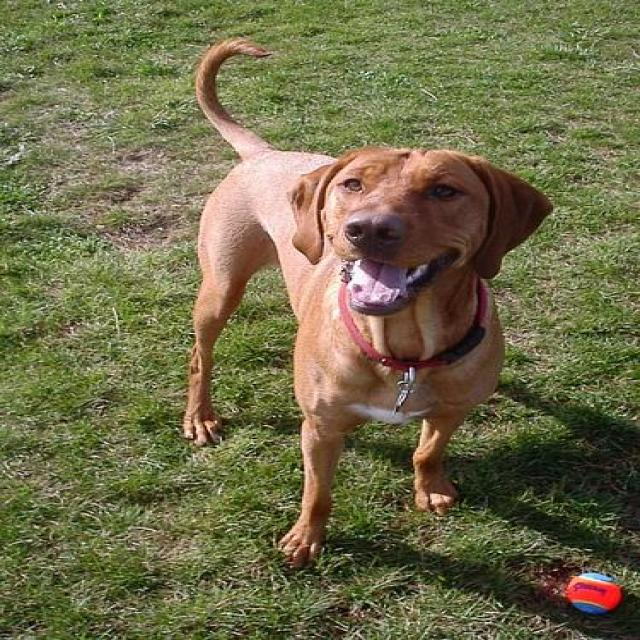vizsla: (176, 34, 556, 566)
